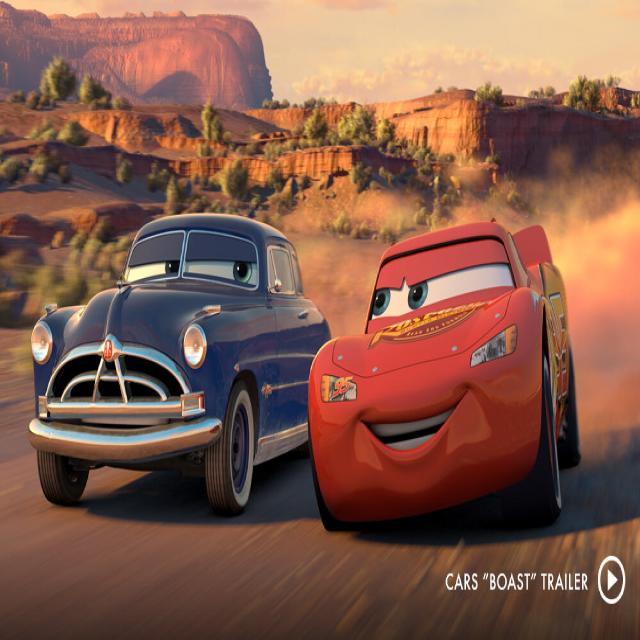car: (20, 160, 332, 560), (308, 178, 613, 531)
